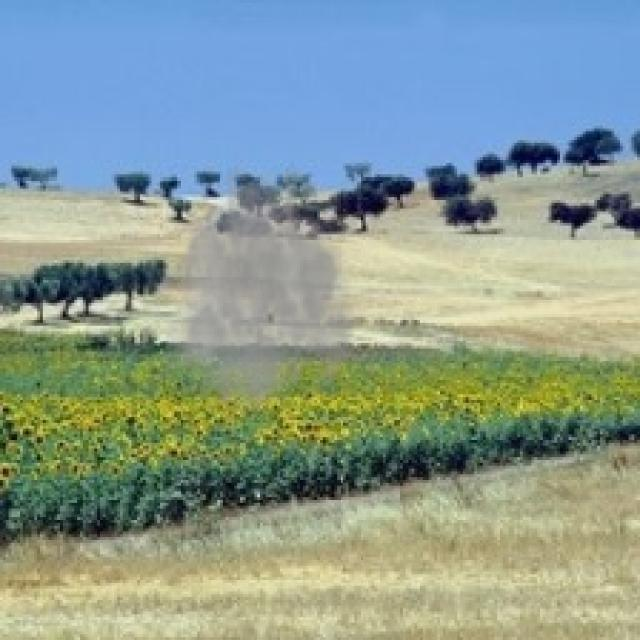smoke: (165, 160, 368, 423)
